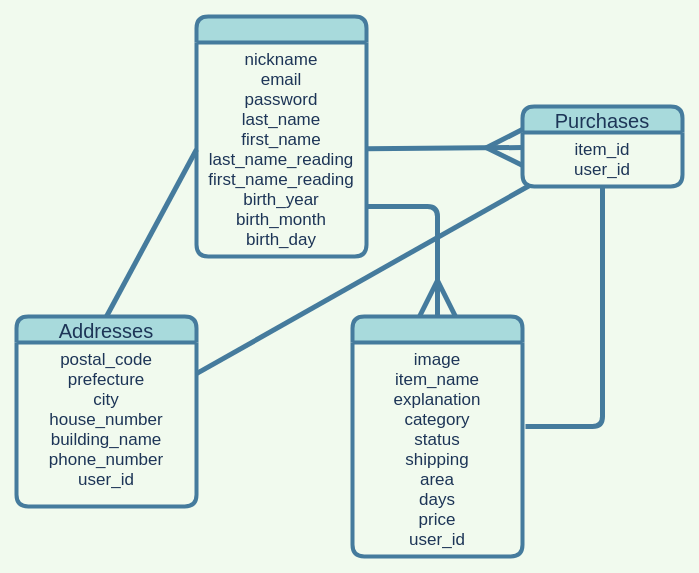
This 699x573 diagram has some shape labels left out. Each missing label, with the box of its shape:
Items: (350, 314, 524, 558)
USers: (194, 14, 368, 258)
